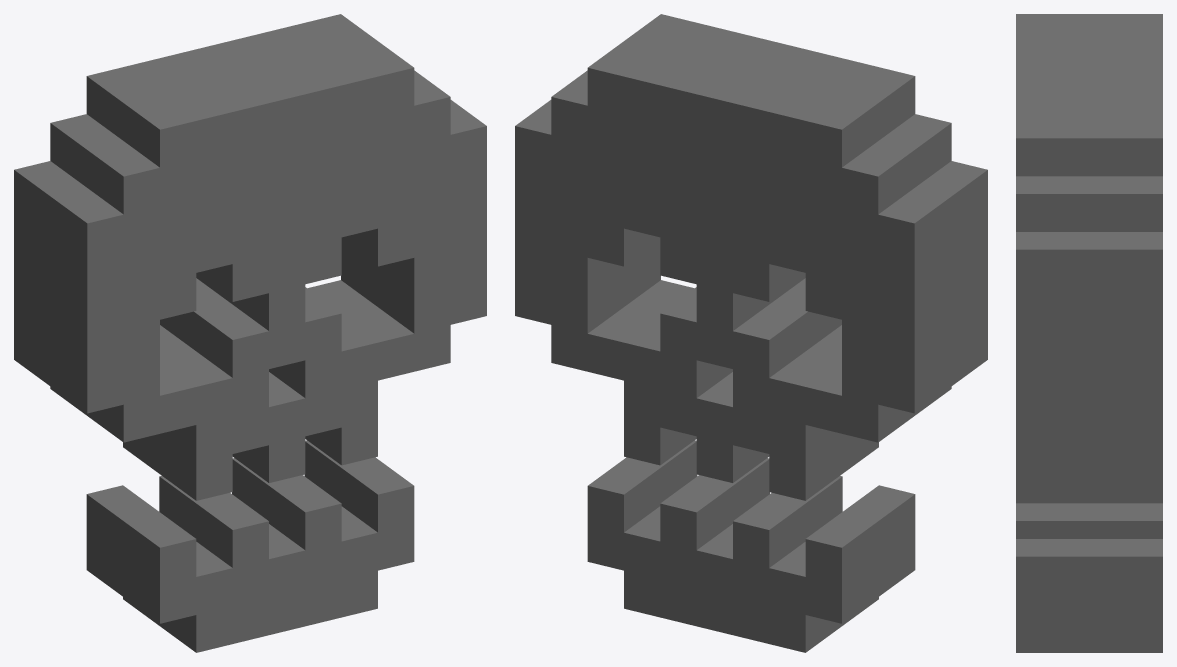
Rendered from Calabera.dae.
The picture shows the model from 3 angles, left to right: view 1: azimuth 30°, elevation 25°; view 2: azimuth 150°, elevation 25°; view 3: azimuth 270°, elevation 25°; orthographic projection.
Parts seen in each view (by area): view 1: Node-local; view 2: Node-local; view 3: Node-local.
Boxes of the visible parts, left/top/right/bottom form: Node-local: left=14, top=14, right=486, bottom=652; Node-local: left=515, top=14, right=987, bottom=652; Node-local: left=1016, top=14, right=1162, bottom=652.
Size of the model in its own units: 22 by 28 by 7.
Materials: 1 (1 with a texture image).
